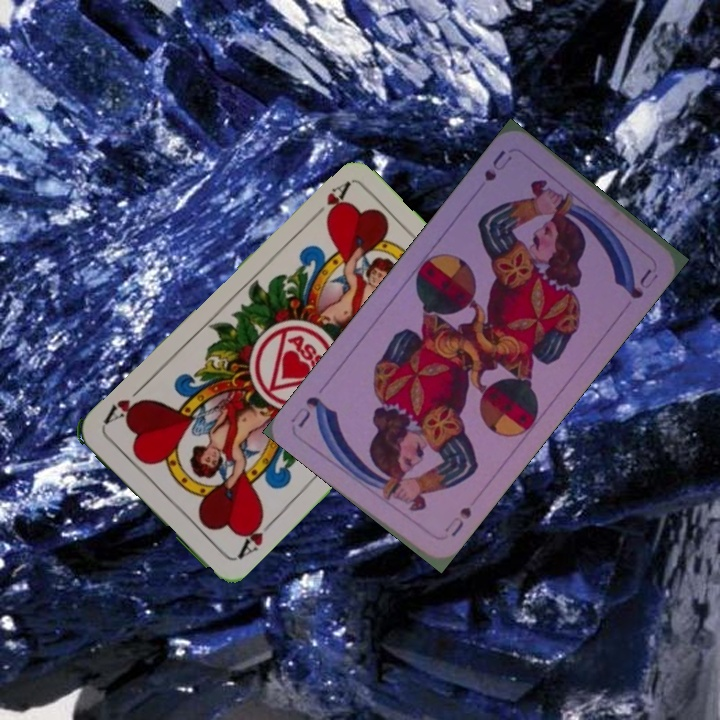HA: (232, 510, 277, 562), (305, 178, 353, 225)
SU: (480, 146, 515, 184), (447, 502, 474, 539)
